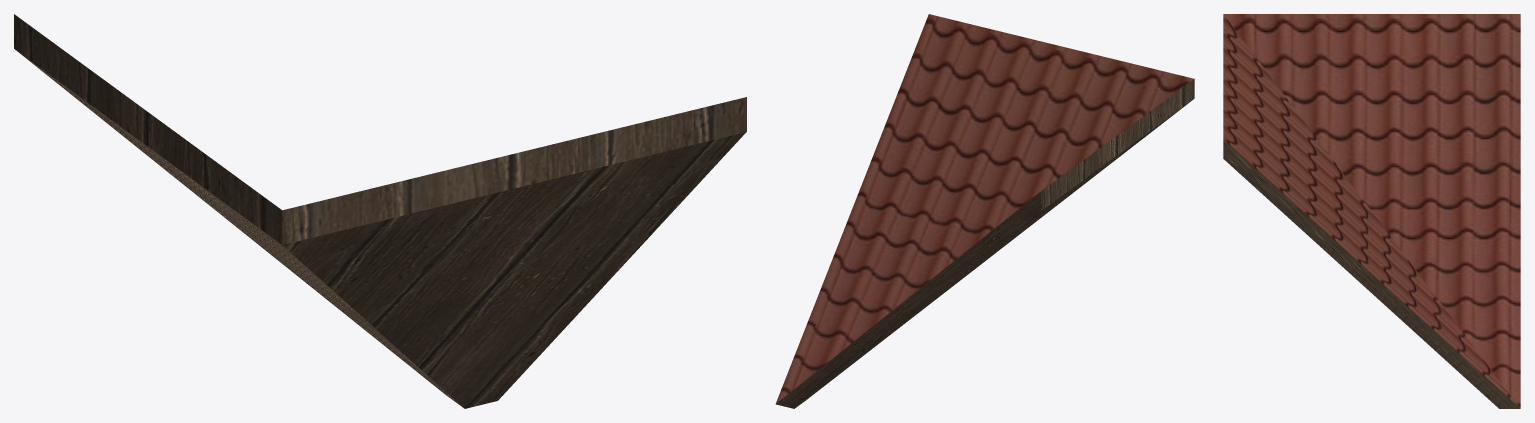
File: ARC1010400.fbx
3 renders of one model, left to right at view 1: azimuth 30°, elevation 25°; view 2: azimuth 150°, elevation 25°; view 3: azimuth 270°, elevation 25°, orthographic. The views are drawn at different scales.
Parts seen in each view (by area): view 1: smARC1010400; view 2: smARC1010400; view 3: smARC1010400.
Part boxes in pixels (left/top/right/bottom): smARC1010400: left=14, top=14, right=746, bottom=408; smARC1010400: left=775, top=14, right=1194, bottom=408; smARC1010400: left=1223, top=14, right=1520, bottom=408.
Size of the model in its own units: 313 by 313 by 313.
1 material, 1 textured.
